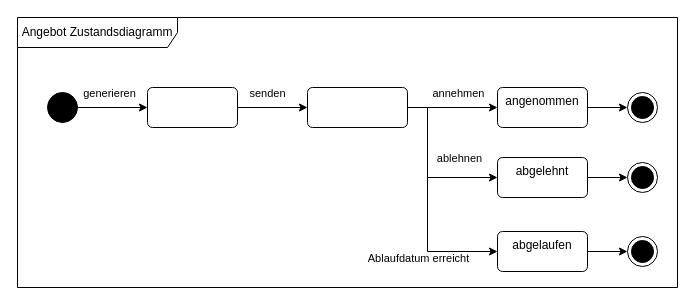
The diagram is 695 pixels wide and 305 high, and some of its shapes have lost their labels. The box of each missing label's shape, as (x1, y1, x2, y2) in pixels:
generiert: (146, 86, 238, 128)
gesendet: (306, 86, 408, 128)
